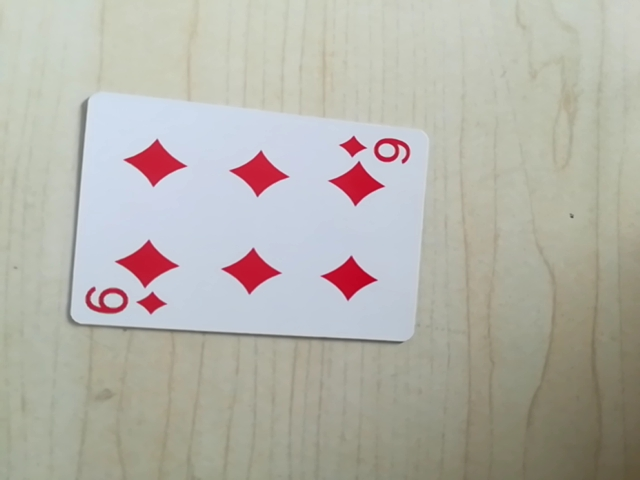fk 6: (77, 285, 173, 325), (337, 128, 414, 167)
